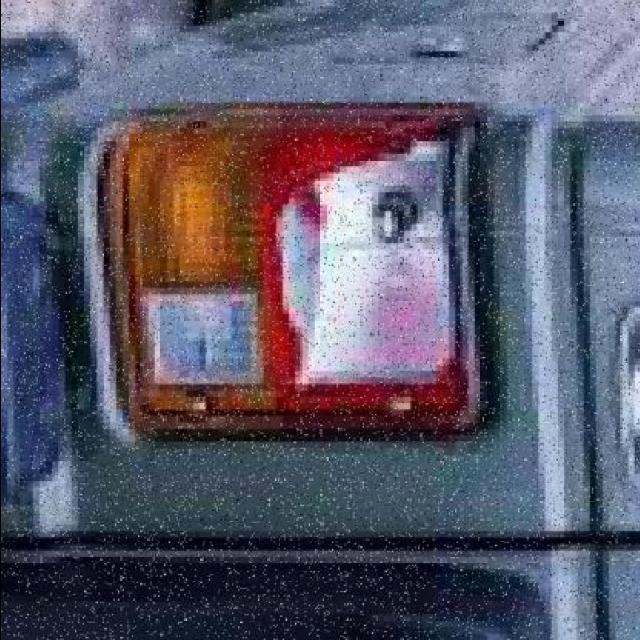Taillight-Damage: (71, 65, 551, 481)
